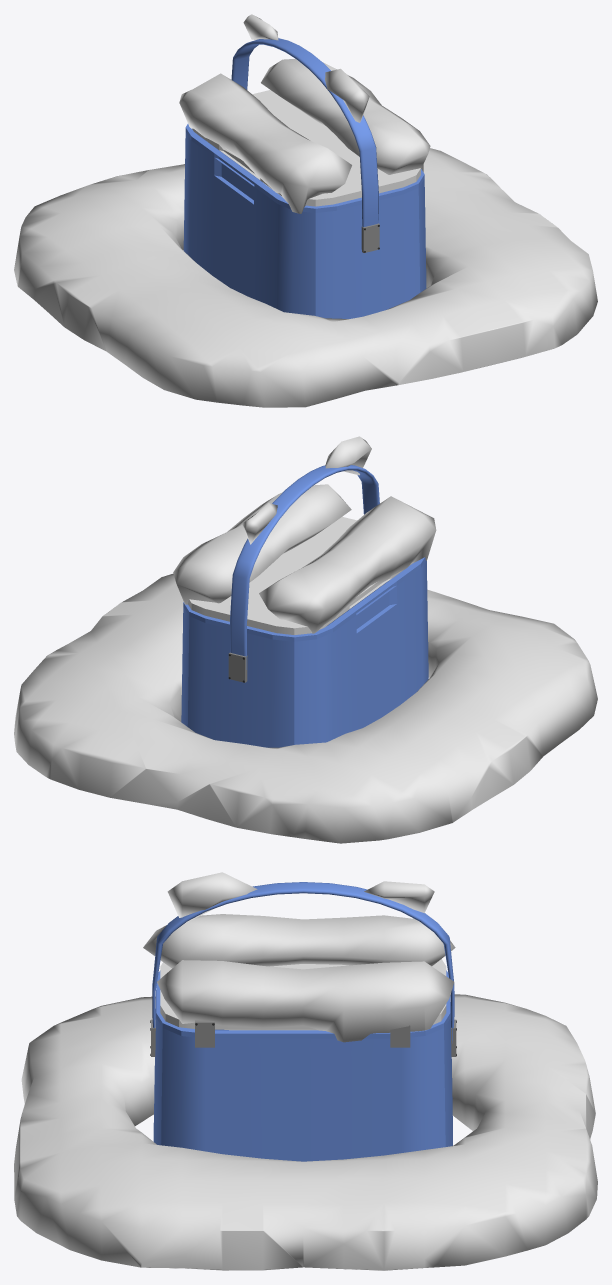
Rendered from foodCoolingBox-Sn.fbx.
The picture shows the model from 3 angles, top to bottom: view 1: azimuth 30°, elevation 25°; view 2: azimuth 150°, elevation 25°; view 3: azimuth 270°, elevation 25°; orthographic projection. The views are drawn at different scales.
Visible parts, largest first — view 1: CoolingBox; view 2: CoolingBox; view 3: CoolingBox.
Boxes of the visible parts, x1,y1,x2,y2 form: CoolingBox: [14, 14, 597, 407]; CoolingBox: [14, 436, 597, 843]; CoolingBox: [14, 872, 597, 1270].
Bounding box in the file's own units: 7.19 × 4.08 × 7.23.
